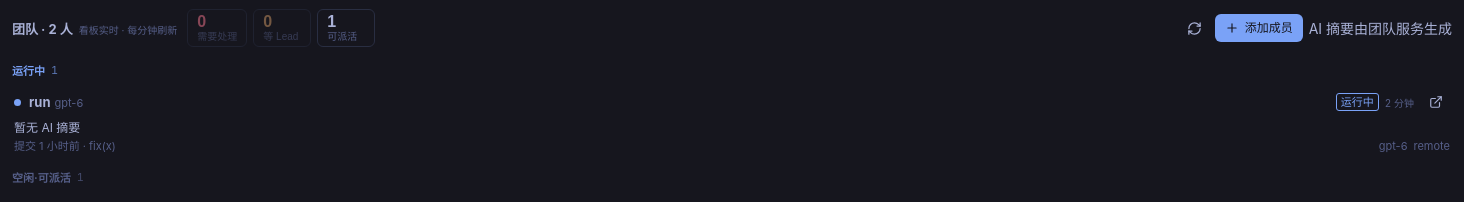
it: shows and honours the 清除筛选 button
The width and height of the screenshot is (1464, 202).
Click the button "1 可派活": (346, 28) [317,9,375,47]
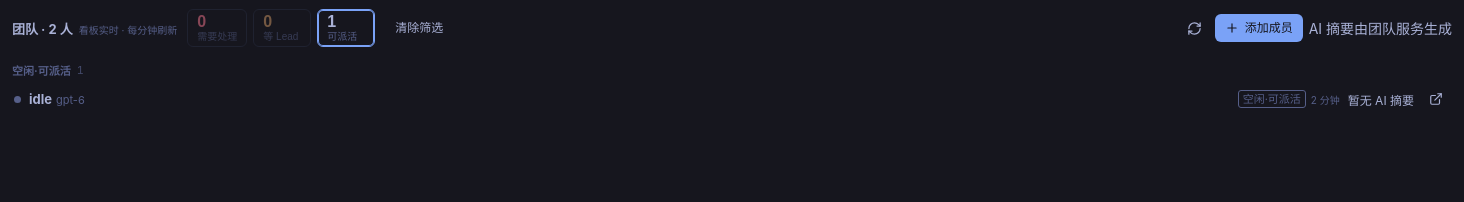
Click the button "清除筛选": (419, 28) [385,14,453,42]
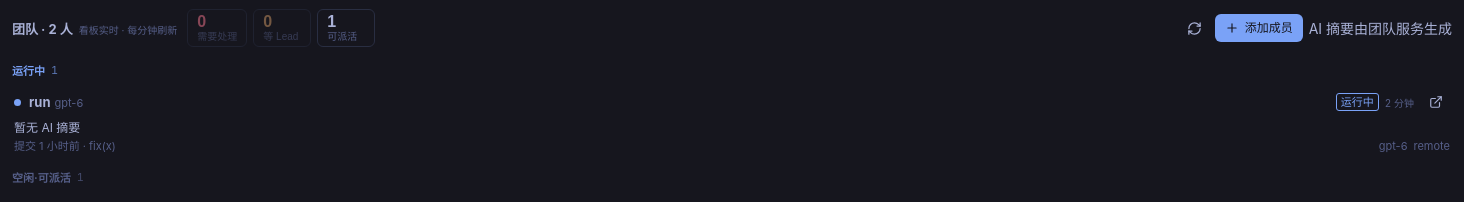
Expected: the element named "空闲·可派活成员" is shown, [12,170,84,185]
Expected: the button "清除筛选" is gone
Expected: the element named "运行中成员" is shown, [12,58,1452,159]
